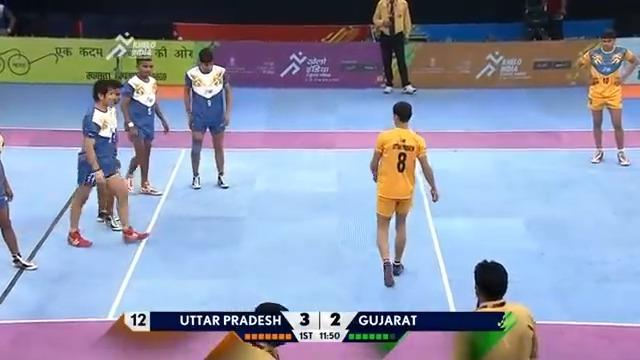Player: (65, 77, 150, 248), (566, 27, 637, 167), (181, 45, 234, 190), (118, 49, 170, 196)
Raider: (367, 98, 440, 288)
referee: (452, 258, 539, 359), (371, 0, 417, 94)
